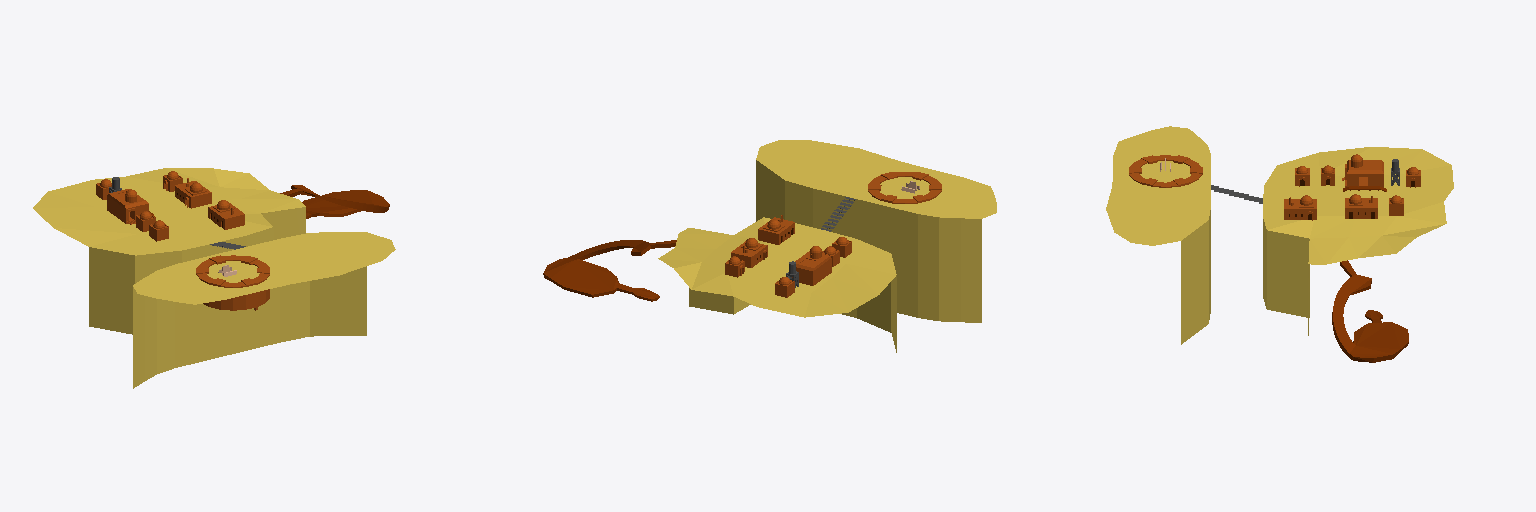
Rendered from BlockOut.obj.
The picture shows the model from 3 angles: view 1: azimuth 30°, elevation 25°; view 2: azimuth 150°, elevation 25°; view 3: azimuth 270°, elevation 25°; orthographic projection.
Parts seen in each view (by area): view 1: Ground_Hangar, Ground_Village, HangarWalls, Cave_Deeps, Tabern, LargeHouse_1, LargeHouse_003; view 2: Ground_Hangar, Ground_Village, Cave_Deeps, HangarWalls, Tabern, LargeHouse_003, LargeHouse_1; view 3: Ground_Village, Ground_Hangar, Cave_Deeps, HangarWalls, Tabern, LargeHouse_003, LargeHouse_1, Cave_Entrance.
Part boxes in pixels (x1,y1,x2,y2): Ground_Hangar: (133, 232, 395, 388); Ground_Village: (33, 168, 305, 334); HangarWalls: (196, 255, 269, 310); Cave_Deeps: (302, 190, 389, 218); Tabern: (107, 189, 148, 224); LargeHouse_1: (175, 181, 211, 208); LargeHouse_003: (208, 200, 244, 229); Ground_Hangar: (756, 140, 996, 322); Ground_Village: (658, 217, 896, 352); Cave_Deeps: (543, 240, 659, 301); HangarWalls: (868, 172, 941, 203); Tabern: (792, 246, 831, 285); LargeHouse_003: (758, 217, 794, 244); LargeHouse_1: (731, 238, 767, 267); Ground_Village: (1263, 147, 1453, 335); Ground_Hangar: (1106, 126, 1210, 344); Cave_Deeps: (1332, 285, 1408, 362); HangarWalls: (1129, 155, 1202, 187); Tabern: (1342, 154, 1383, 187); LargeHouse_003: (1284, 195, 1316, 220); LargeHouse_1: (1345, 194, 1377, 218); Cave_Entrance: (1340, 260, 1371, 294).
Size of the model in its own units: 13493 by 4378 by 11708.